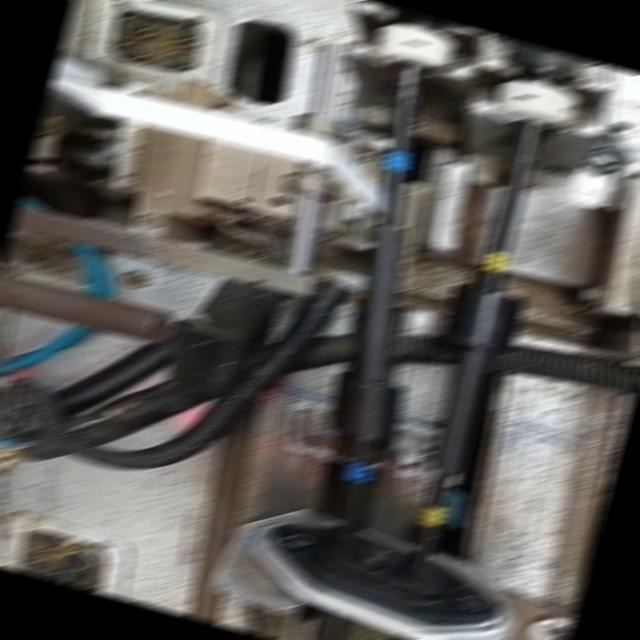blue: (383, 151, 411, 171), (346, 462, 372, 482)
yellow: (422, 505, 445, 525), (482, 253, 509, 270)
